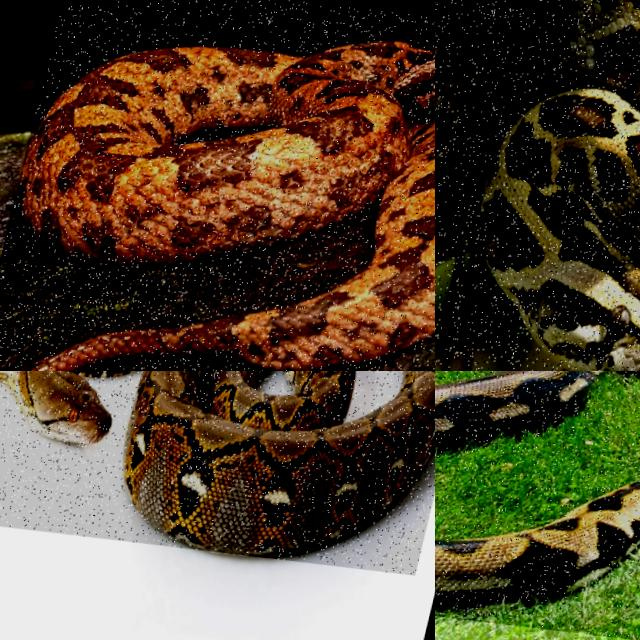Malayopython reticulatus: (125, 371, 434, 554), (435, 483, 639, 607)
Ovophis monticola: (20, 41, 434, 370)
Python bivittatus: (435, 0, 639, 370)
